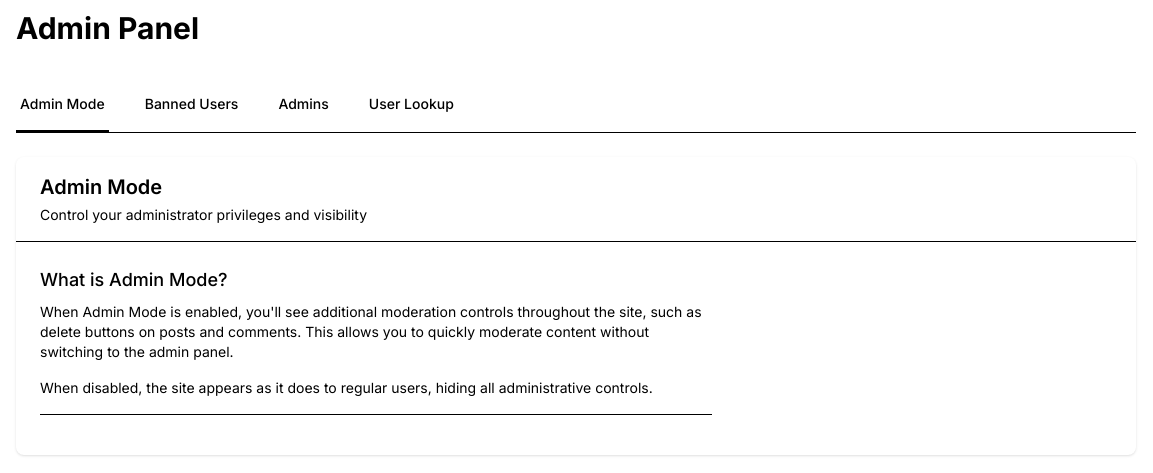
Test: AdminPage › Banned Users Tab › displays empty state when no banned users exist
# Click on Banned Users tab
Click the button "Banned Users": (192, 105) [141,78,242,132]
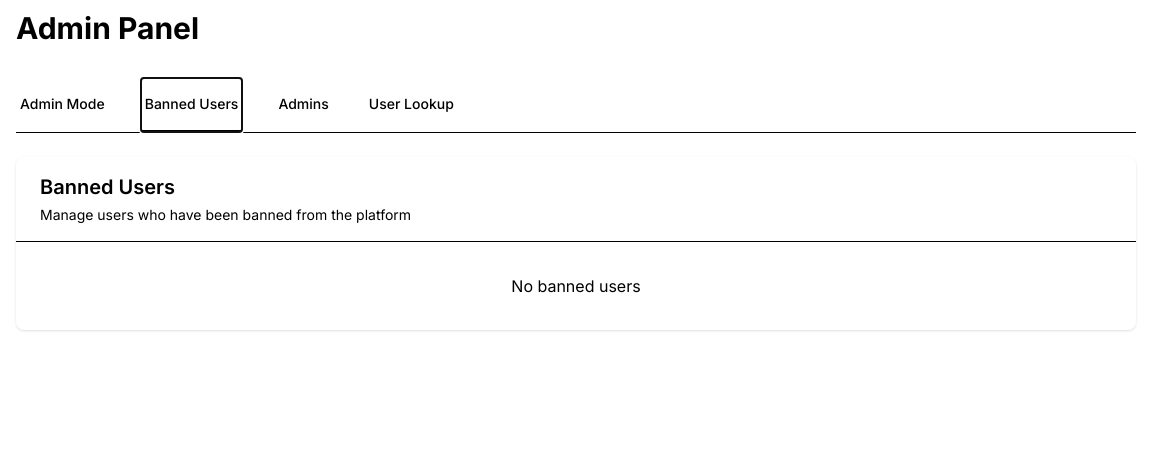
Expected: the text "No banned users" is shown, [511,276,641,296]
